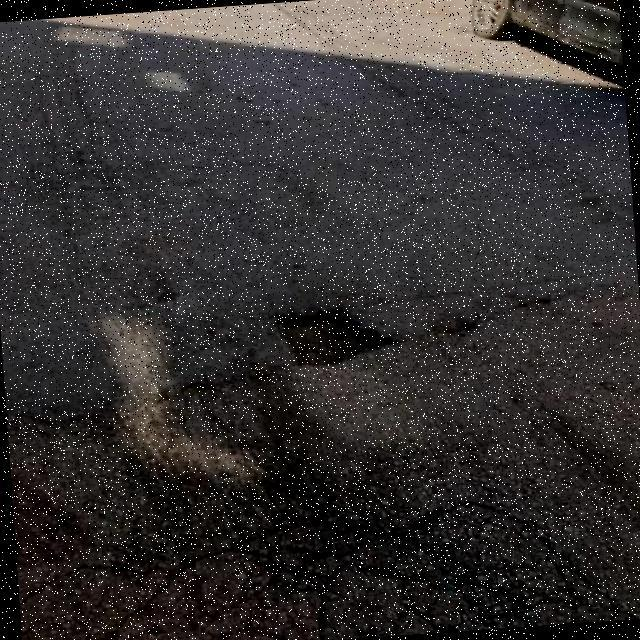Pothole: (275, 312, 400, 367)
